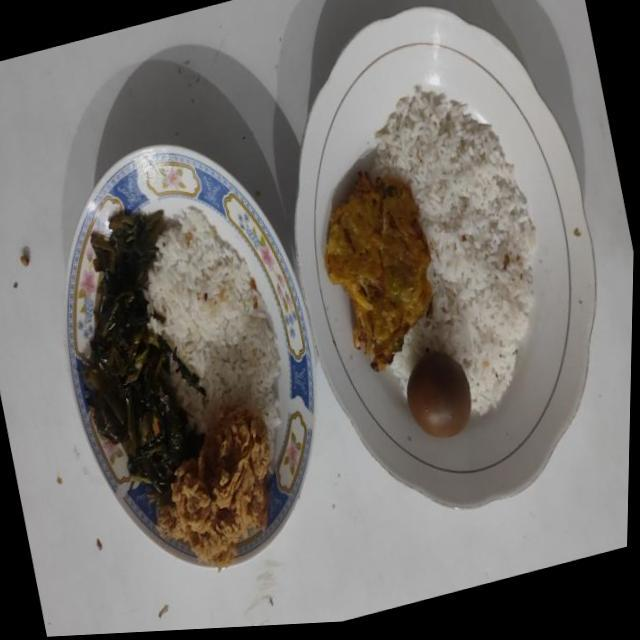nasi_putih: (370, 87, 536, 414), (146, 206, 280, 432)
tumis_kangkung: (79, 210, 205, 503)
